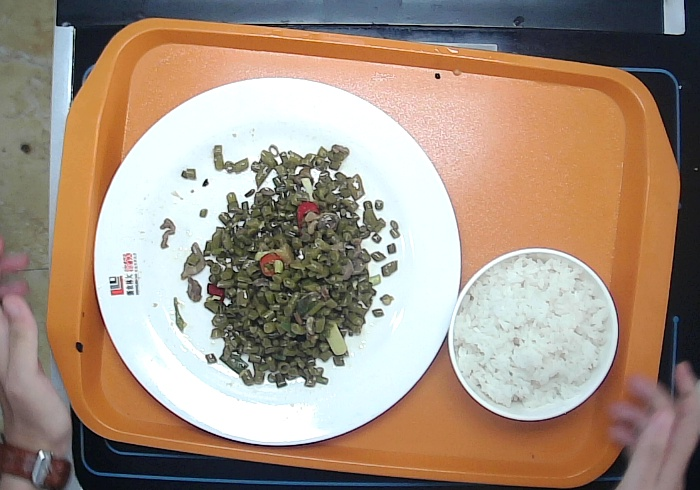ZNLD-Da_Yuan_Pan: (91, 76, 462, 448)
ZNLD-Fan_Wan: (446, 246, 620, 424)
